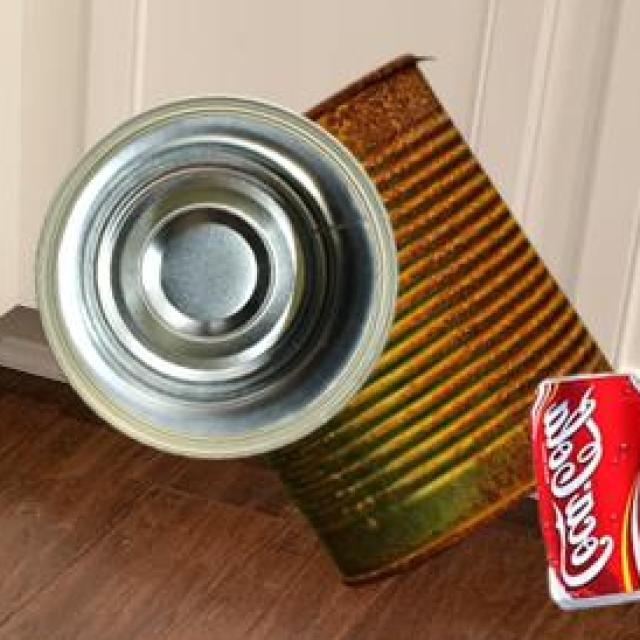logam: (267, 53, 618, 583), (41, 92, 401, 454), (534, 370, 640, 606)
